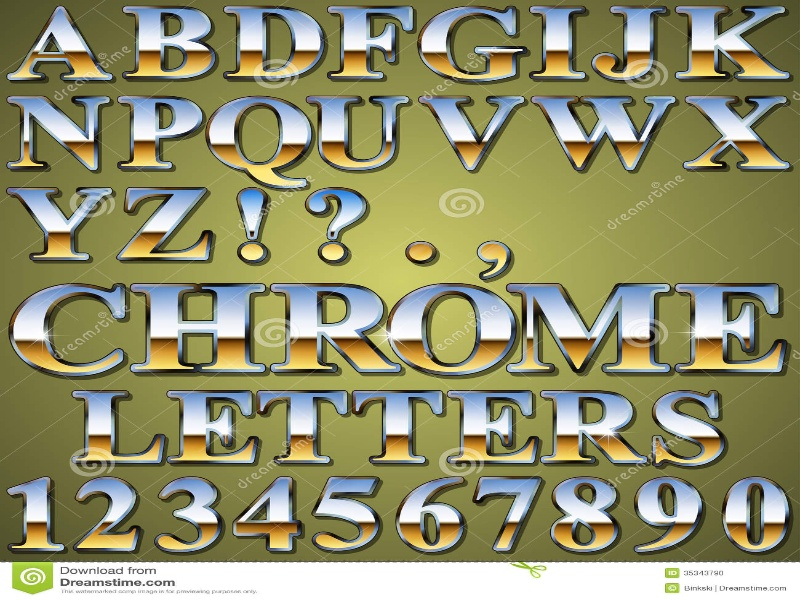letters: (511, 282, 678, 381), (139, 283, 267, 383), (529, 92, 682, 174), (383, 279, 518, 371), (8, 283, 132, 382), (674, 281, 794, 381), (277, 283, 395, 378), (675, 4, 796, 88), (8, 2, 117, 91), (310, 86, 418, 174), (211, 93, 311, 188), (1, 90, 105, 179), (124, 1, 224, 91), (683, 92, 795, 172), (417, 92, 529, 172), (255, 385, 355, 469), (419, 7, 528, 84), (119, 189, 222, 270), (439, 388, 541, 469), (16, 183, 110, 270), (226, 9, 331, 83), (540, 390, 651, 460), (76, 384, 160, 476), (116, 93, 209, 176), (167, 387, 262, 467), (352, 391, 451, 467), (328, 6, 421, 86), (655, 384, 736, 472), (596, 3, 669, 80), (522, 1, 593, 78)
